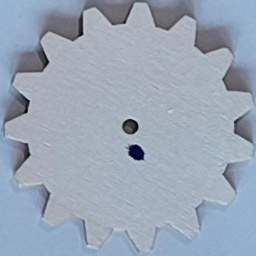Points: (124, 142, 148, 163)
